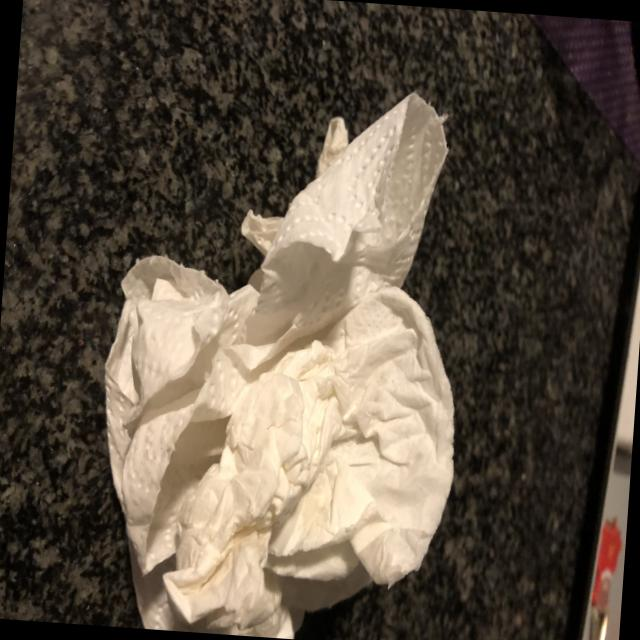organic waste: (82, 64, 477, 640)
